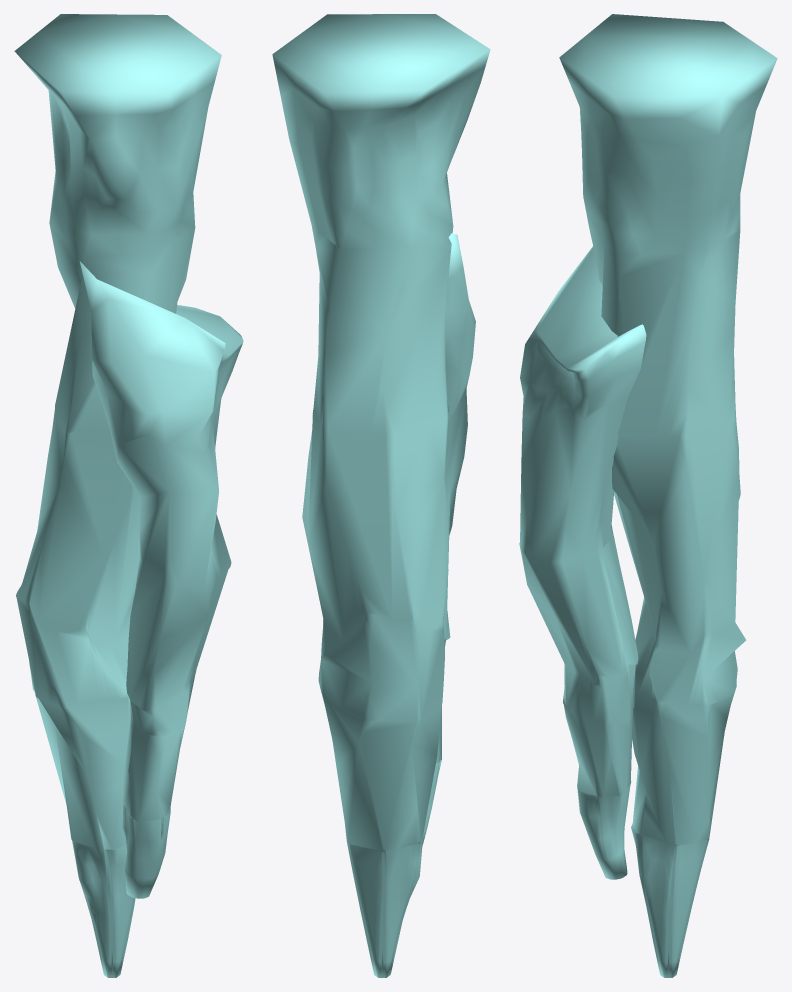
Rendered from icicleclump2-new.glb.
The picture shows the model from 3 angles, left to right: view 1: azimuth 30°, elevation 25°; view 2: azimuth 150°, elevation 25°; view 3: azimuth 270°, elevation 25°; orthographic projection.
Parts seen in each view (by area): view 1: Cylinder, Cylinder.001; view 2: Cylinder, Cylinder.001; view 3: Cylinder, Cylinder.001.
Part boxes in pixels (x1,y1,x2,y2): Cylinder: [14, 14, 221, 977]; Cylinder.001: [79, 261, 243, 898]; Cylinder: [272, 14, 490, 977]; Cylinder.001: [422, 233, 475, 845]; Cylinder: [559, 14, 777, 977]; Cylinder.001: [519, 246, 646, 879].
Size of the model in its own units: 0.1646 by 0.8687 by 0.2207.
1 material, 1 textured.
